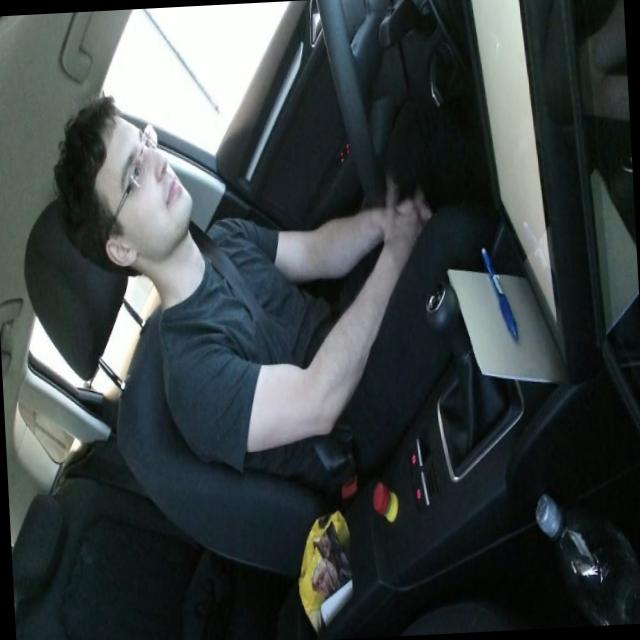pen: (480, 243, 520, 343)
